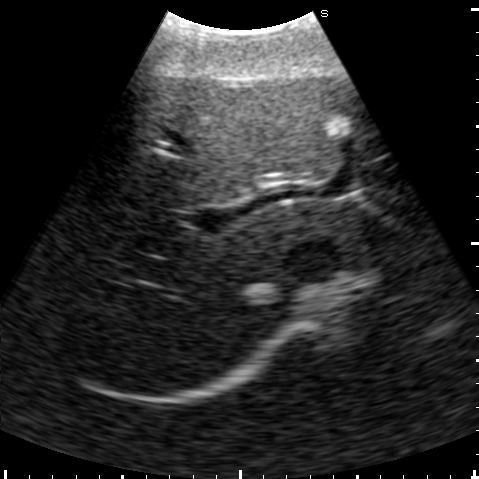IVC: (282, 238, 340, 282)
S1: (308, 202, 389, 266)
S2: (360, 192, 437, 234)
S3: (343, 84, 413, 196)
S4: (128, 76, 342, 204)
Tumor: (243, 283, 279, 302), (327, 114, 351, 135)
